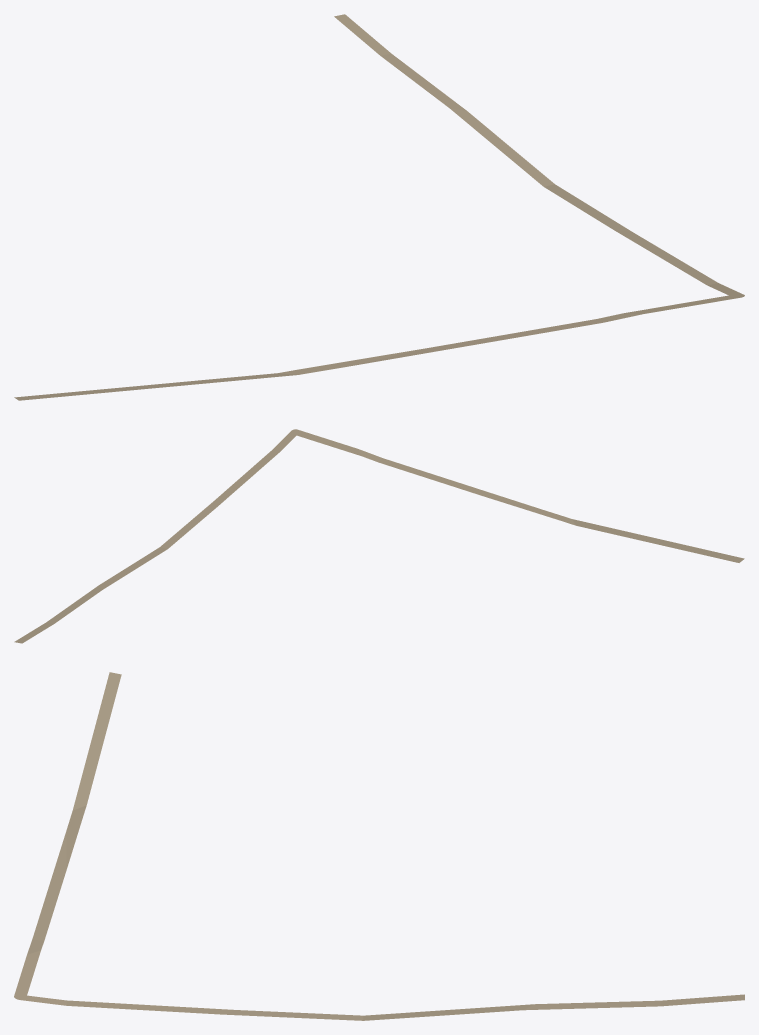
The model's file is farm_2_21_track.glb.
3 views of the same model, one above another, from view 1: azimuth 30°, elevation 25°; view 2: azimuth 150°, elevation 25°; view 3: azimuth 270°, elevation 25° (orthographic). The views are drawn at different scales.
Visible parts, largest first — view 1: geometry_0; view 2: geometry_0; view 3: geometry_0.
Part boxes in pixels (bbox=[...]): geometry_0: bbox=[14, 14, 744, 400]; geometry_0: bbox=[14, 429, 744, 643]; geometry_0: bbox=[14, 672, 744, 1020].
Bounding box in the file's own units: 195 × 13.23 × 197.
